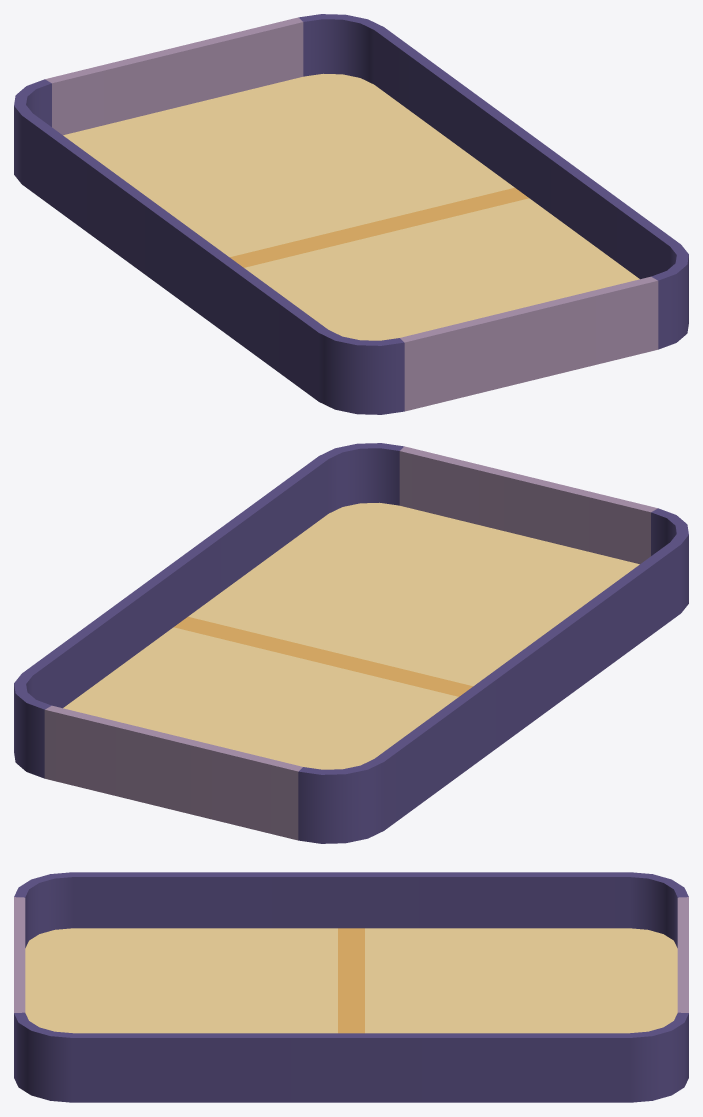
File: Arena.fbx
3 views of the same model, one above another, from view 1: azimuth 30°, elevation 25°; view 2: azimuth 150°, elevation 25°; view 3: azimuth 270°, elevation 25° (orthographic). The views are drawn at different scales.
Parts seen in each view (by area): view 1: Wall, Ground; view 2: Wall, Ground; view 3: Wall, Ground.
Part boxes in pixels (x1,y1,x2,y2): Wall: (14, 14, 688, 414); Ground: (63, 73, 639, 340); Wall: (14, 443, 688, 843); Ground: (63, 502, 639, 769); Wall: (14, 872, 688, 1102); Ground: (25, 928, 677, 1033).
Size of the model in its own units: 30.34 by 5.52 by 52.2.
1 material, 1 textured.
